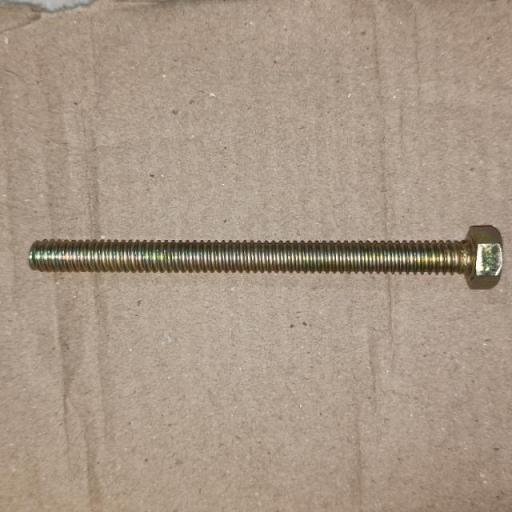Bolt: (28, 225, 504, 290)
